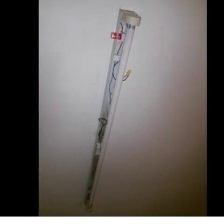light_bulb: (83, 12, 142, 213)
